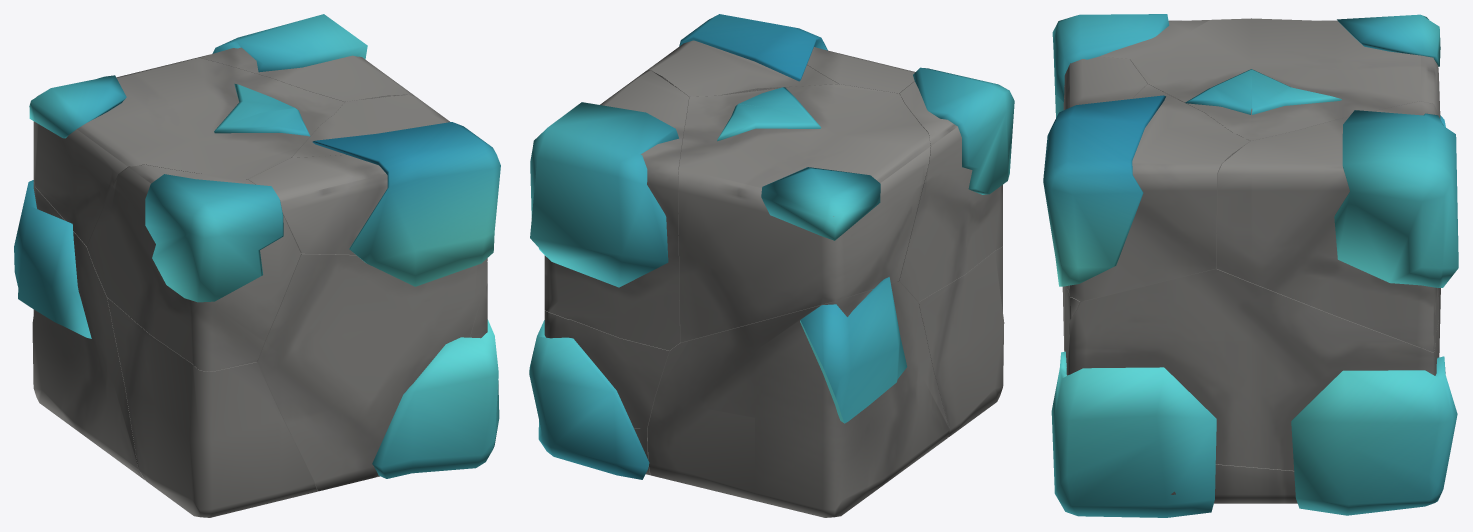
File: Diamond.fbx
3 renders of one model, left to right at view 1: azimuth 30°, elevation 25°; view 2: azimuth 150°, elevation 25°; view 3: azimuth 270°, elevation 25°, orthographic. The views are drawn at different scales.
Parts seen in each view (by area): view 1: Cube_Parts.020, Cube_Parts.026, Cube_Parts.027, Ore.032, Cube_Parts.021, Ore.029, Ore.031, Cube_Parts.029, Cube_Parts.028, Ore.035, Ore.028, Cube_Parts.022 (+3 smaller); view 2: Cube_Parts.026, Cube_Parts.029, Ore.028, Cube_Parts.022, Cube_Parts.021, Ore.026, Cube_Parts.027, Ore.035, Ore.029, Ore.030, Cube_Parts.023, Cube_Parts.025 (+3 smaller); view 3: Cube_Parts.023, Cube_Parts.022, Ore.031, Cube_Parts.026, Ore.026, Ore.028, Cube_Parts.025, Ore.032, Ore.029, Ore.027, Cube_Parts.028, Ore.030 (+3 smaller).
Part boxes in pixels (left/top/right/bottom): Cube_Parts.020: left=257, top=253, right=487, bottom=491; Cube_Parts.026: left=33, top=57, right=344, bottom=246; Cube_Parts.027: left=107, top=298, right=317, bottom=517; Ore.032: left=312, top=122, right=500, bottom=286; Cube_Parts.021: left=87, top=164, right=300, bottom=371; Ore.029: left=145, top=174, right=283, bottom=302; Ore.031: left=372, top=319, right=499, bottom=478; Cube_Parts.029: left=32, top=182, right=144, bottom=479; Cube_Parts.028: left=248, top=155, right=387, bottom=254; Ore.035: left=14, top=180, right=91, bottom=338; Ore.028: left=212, top=14, right=367, bottom=72; Cube_Parts.022: left=191, top=47, right=418, bottom=101; Cube_Parts.026: left=678, top=84, right=930, bottom=342; Cube_Parts.029: left=647, top=281, right=949, bottom=517; Ore.028: left=530, top=102, right=678, bottom=287; Cube_Parts.022: left=544, top=70, right=689, bottom=350; Cube_Parts.021: left=896, top=81, right=1002, bottom=302; Ore.026: left=529, top=320, right=649, bottom=479; Cube_Parts.027: left=918, top=246, right=1004, bottom=437; Ore.035: left=800, top=277, right=907, bottom=423; Ore.029: left=913, top=67, right=1014, bottom=194; Ore.030: left=761, top=167, right=880, bottom=240; Cube_Parts.023: left=544, top=310, right=680, bottom=428; Cube_Parts.025: left=645, top=40, right=837, bottom=96; Cube_Parts.023: left=1066, top=268, right=1438, bottom=470; Cube_Parts.022: left=1216, top=101, right=1438, bottom=352; Ore.031: left=1051, top=351, right=1216, bottom=517; Cube_Parts.026: left=1130, top=18, right=1440, bottom=140; Ore.026: left=1291, top=356, right=1457, bottom=515; Ore.028: left=1334, top=110, right=1458, bottom=287; Cube_Parts.025: left=1069, top=84, right=1250, bottom=301; Ore.032: left=1043, top=95, right=1165, bottom=286; Ore.029: left=1052, top=14, right=1169, bottom=117; Ore.027: left=1185, top=69, right=1341, bottom=114; Cube_Parts.028: left=1064, top=56, right=1147, bottom=292; Ore.030: left=1337, top=14, right=1440, bottom=66.
Bounding box in the file's own units: 221 × 215 × 222.
